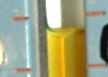border: (83, 10, 107, 19), (83, 62, 108, 70), (9, 15, 31, 23), (11, 68, 34, 74)
liquidlevel: (45, 23, 86, 37)
